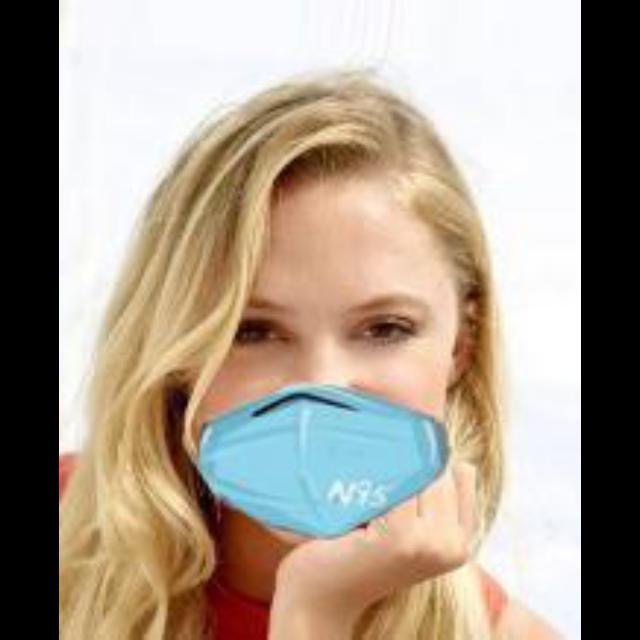suspicion: (114, 102, 488, 546)
